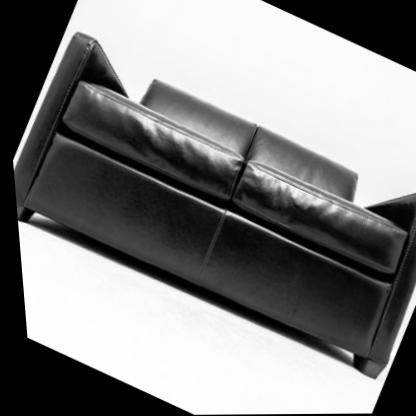Sofa: (2, 23, 416, 394)
